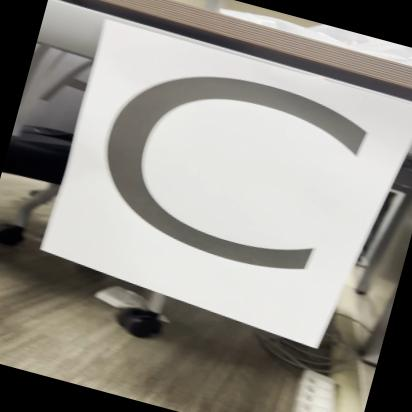seat: (44, 18, 406, 346)
